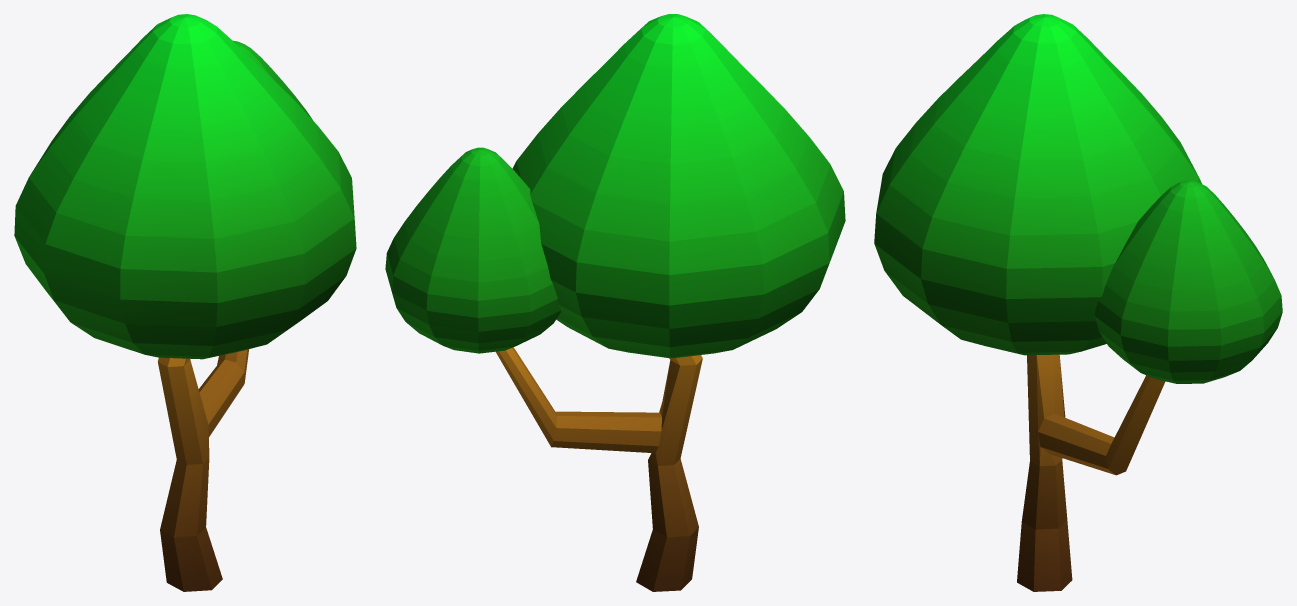
The model's file is city_Tree-2.glb.
3 renders of one model, left to right at view 1: azimuth 30°, elevation 25°; view 2: azimuth 150°, elevation 25°; view 3: azimuth 270°, elevation 25°, orthographic.
Parts seen in each view (by area): view 1: Object_1395; view 2: Object_1395; view 3: Object_1395.
Part boxes in pixels (box(x1,y1,x2,y2)): Object_1395: box(14, 14, 356, 591); Object_1395: box(385, 14, 845, 591); Object_1395: box(874, 14, 1282, 591).
Size of the model in its own units: 4.06 by 6.25 by 4.14.
Materials: 1 (1 with a texture image).
